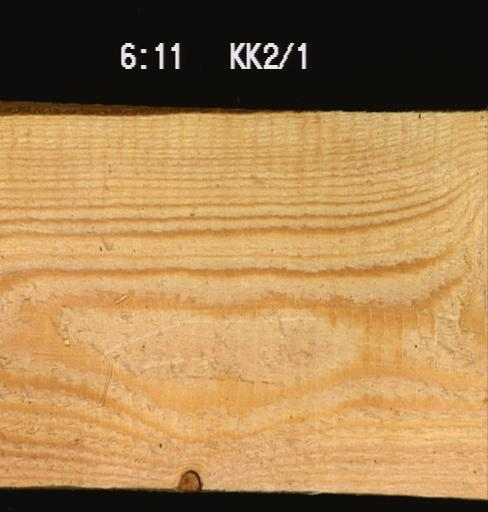edge_knot: (176, 467, 202, 492)
